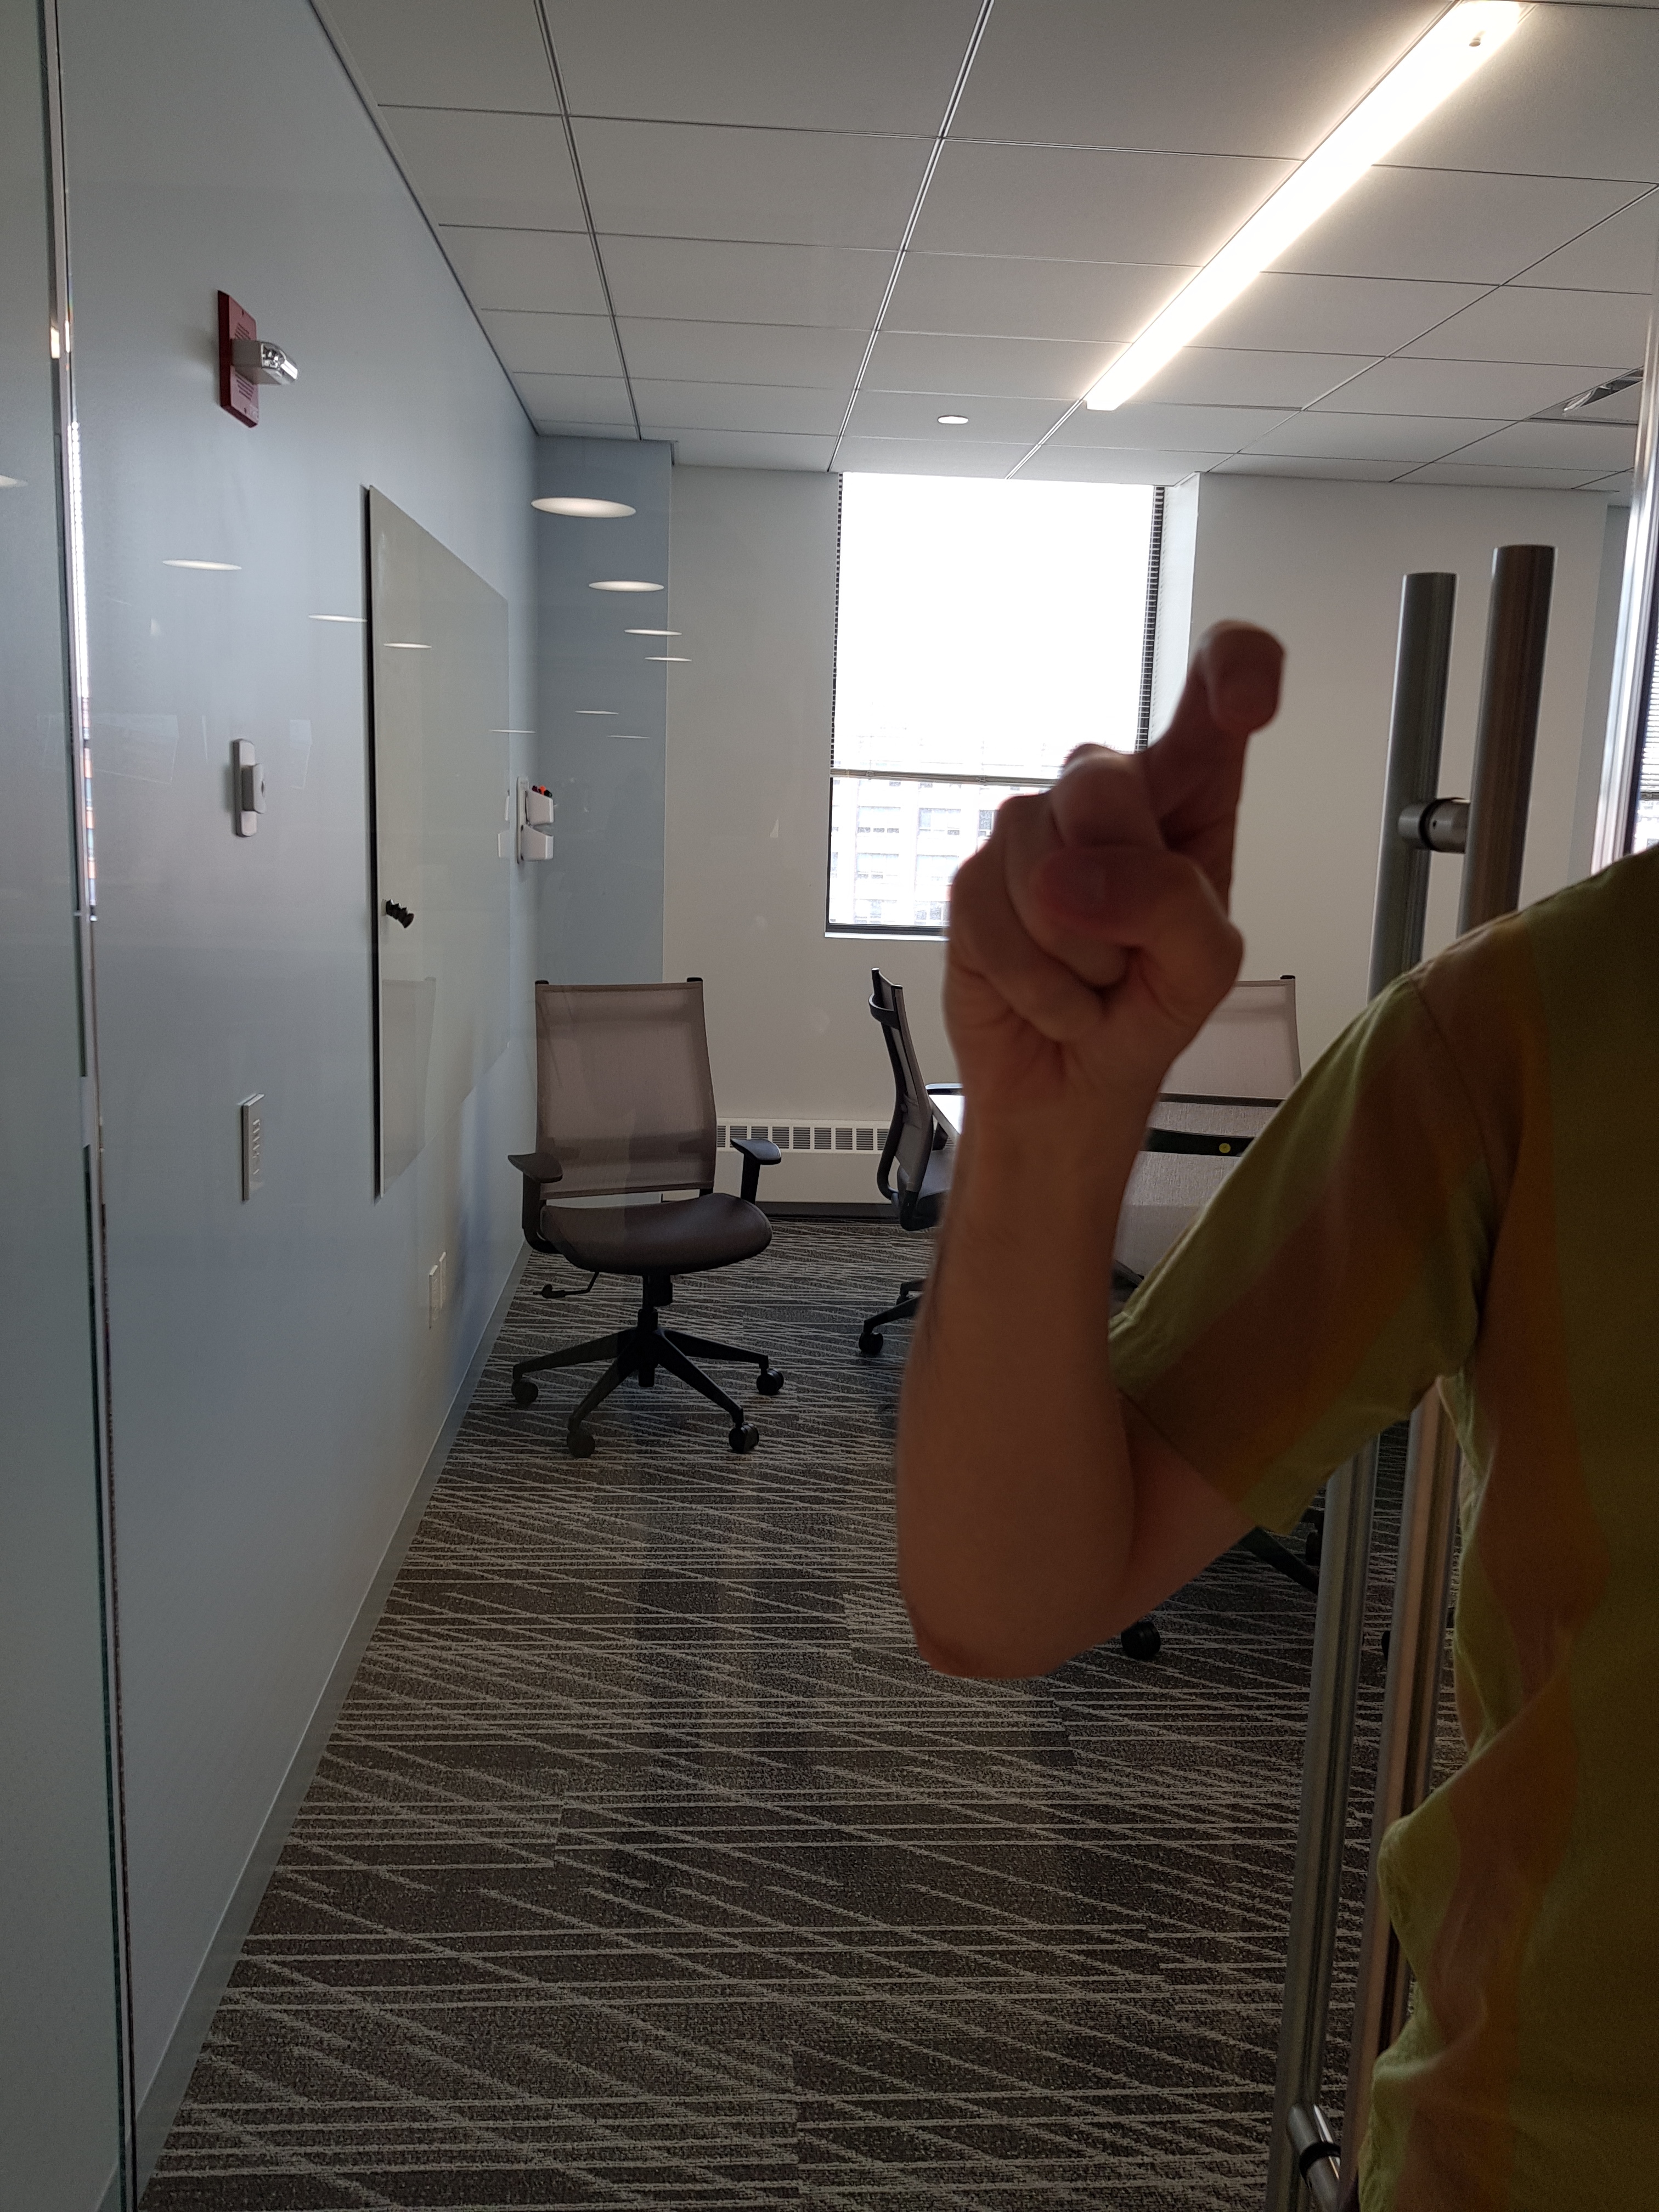x: (911, 594, 1304, 1167)
